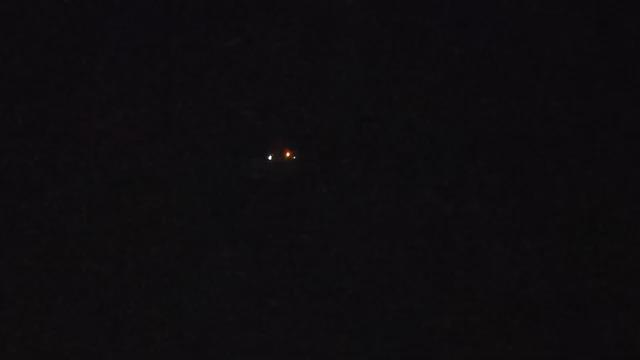Plane: (247, 142, 318, 169)
